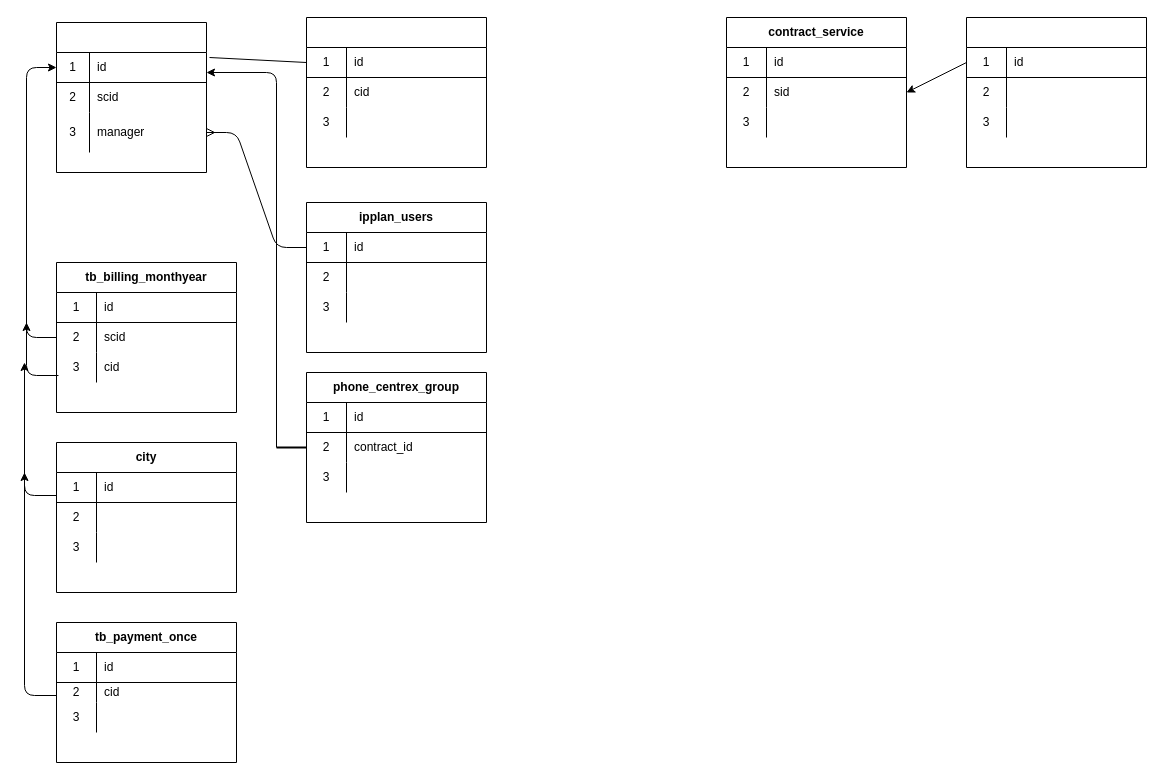
The diagram is 1164 pixels wide and 780 high, and some of its shapes have lost their labels. Here are the shapes that lost their labels. From the top down, the box of each, then its label:
(56, 22, 206, 172): Contract
(306, 16, 486, 168): Company_details
(966, 16, 1146, 168): service
